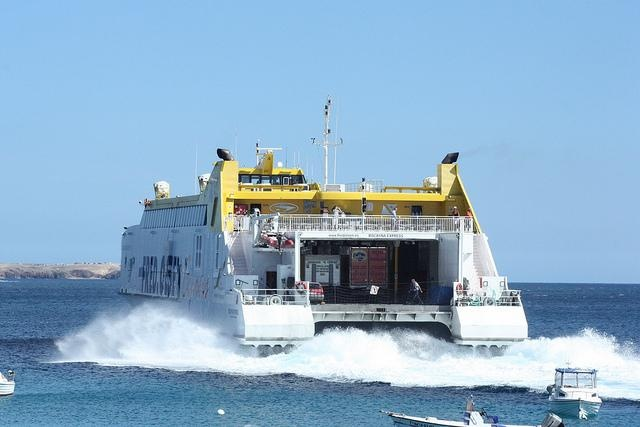otherboat: (105, 111, 526, 366), (381, 390, 541, 427), (546, 359, 613, 422)
